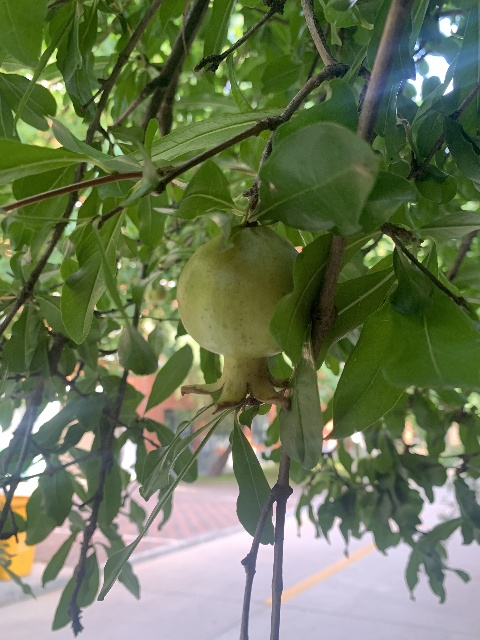mid-growth: (175, 225, 299, 414)
